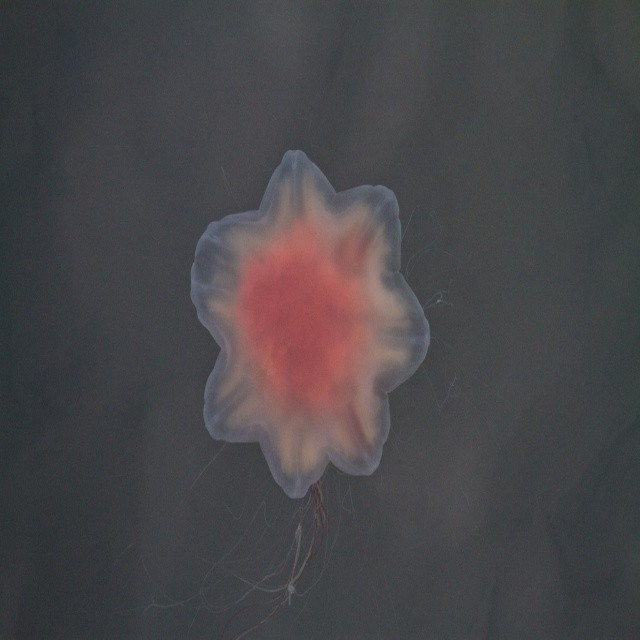Jellyfish: (188, 146, 501, 639)
